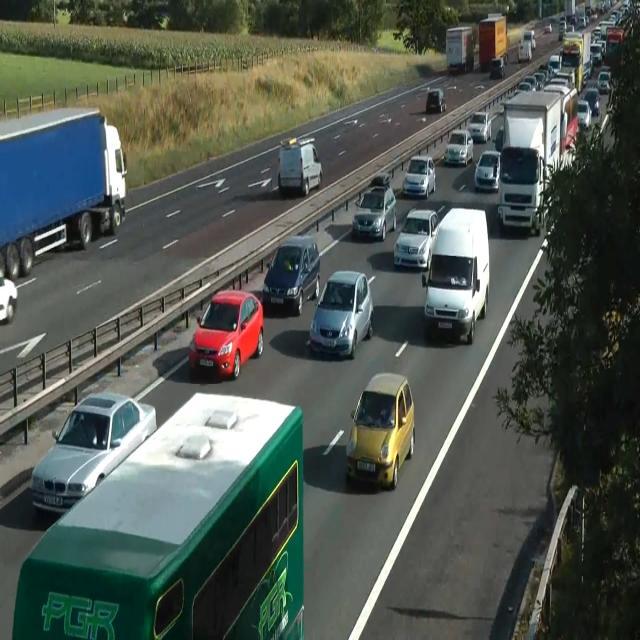bus: (29, 391, 157, 517), (346, 372, 414, 491), (188, 289, 264, 379), (309, 269, 374, 359), (394, 207, 438, 269), (402, 154, 436, 198), (357, 172, 391, 206), (444, 129, 474, 166), (474, 149, 500, 191), (0, 272, 18, 324), (467, 110, 491, 143), (564, 116, 579, 150), (582, 88, 600, 116), (426, 88, 446, 113), (577, 98, 591, 130), (489, 57, 505, 78), (597, 70, 610, 94), (590, 42, 602, 66), (523, 29, 536, 51), (494, 126, 504, 152), (548, 53, 560, 74), (544, 23, 552, 33)
jeep: (262, 233, 320, 314), (496, 145, 544, 235), (276, 137, 322, 195), (352, 183, 397, 241)
minibus: (12, 390, 304, 639), (0, 106, 128, 279), (496, 84, 578, 235), (421, 206, 489, 344), (558, 31, 592, 93), (479, 13, 509, 72), (445, 25, 474, 74), (518, 29, 536, 62)
